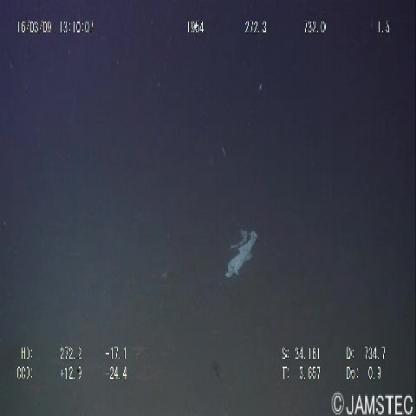Rác: (220, 220, 260, 290)
